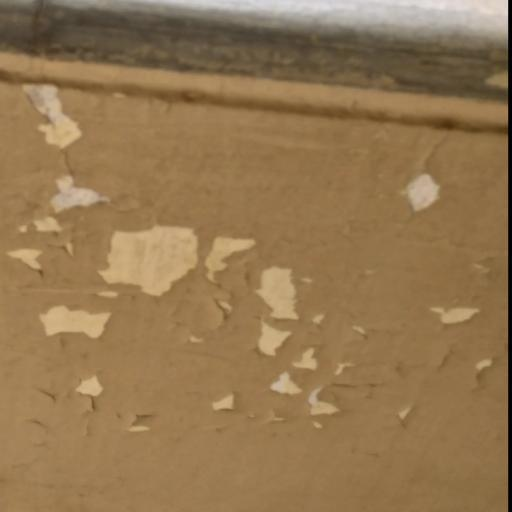peeling: (96, 212, 504, 443), (0, 165, 104, 276), (12, 290, 112, 396), (6, 72, 98, 157), (393, 156, 443, 218)
